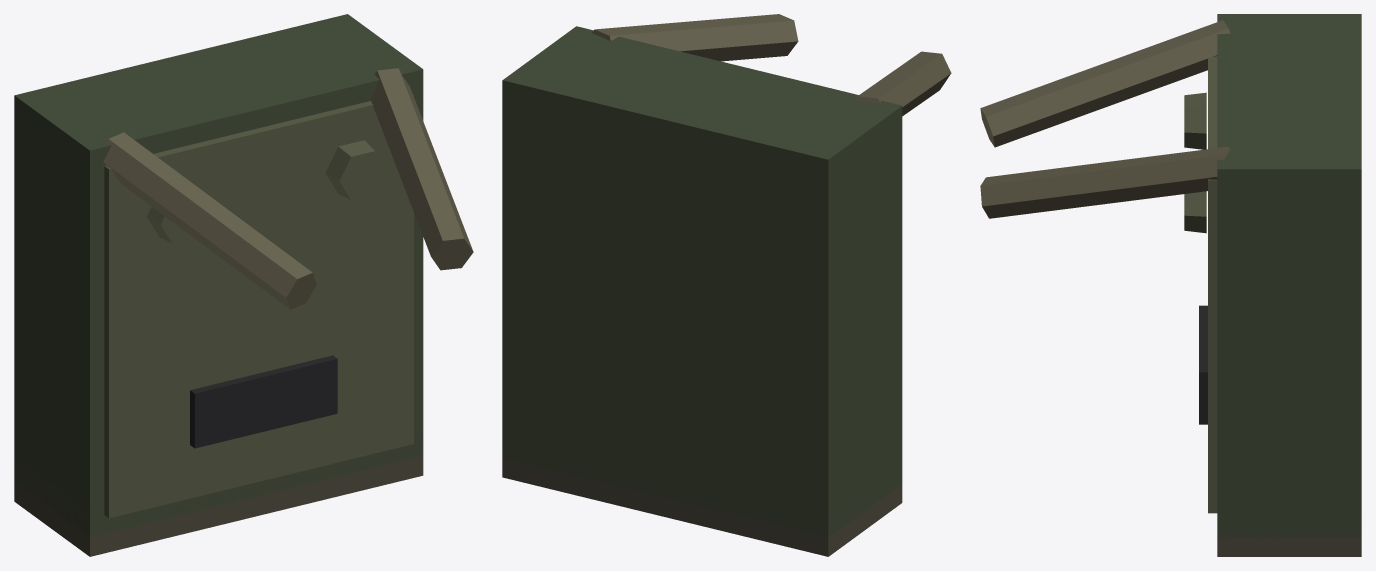
File: prc25_radio_pack.glb
3 views of the same model, side by side, from view 1: azimuth 30°, elevation 25°; view 2: azimuth 150°, elevation 25°; view 3: azimuth 270°, elevation 25° (orthographic). The views are drawn at different scales.
Visible parts, largest first — view 1: prc25_radio_pack; view 2: prc25_radio_pack; view 3: prc25_radio_pack.
Part boxes in pixels (bbox=[...]): prc25_radio_pack: bbox=[14, 14, 473, 556]; prc25_radio_pack: bbox=[502, 14, 951, 556]; prc25_radio_pack: bbox=[980, 14, 1361, 556].
Size of the model in its own units: 0.28 by 0.3294 by 0.2905.
1 material, 1 textured.
